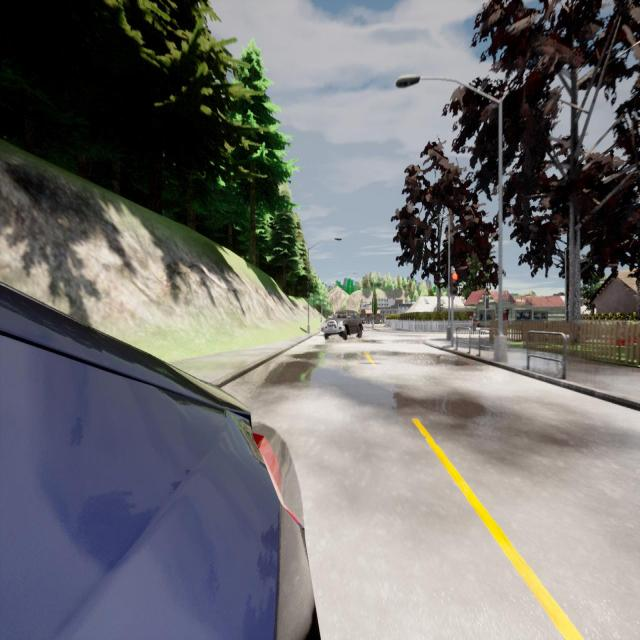Vehicle: (0, 286, 314, 640), (321, 310, 364, 340)
traffic_light: (450, 273, 458, 295), (486, 298, 489, 309)
